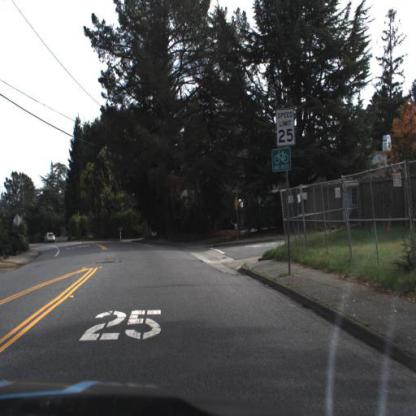car: (42, 231, 57, 249), (44, 230, 57, 246)
